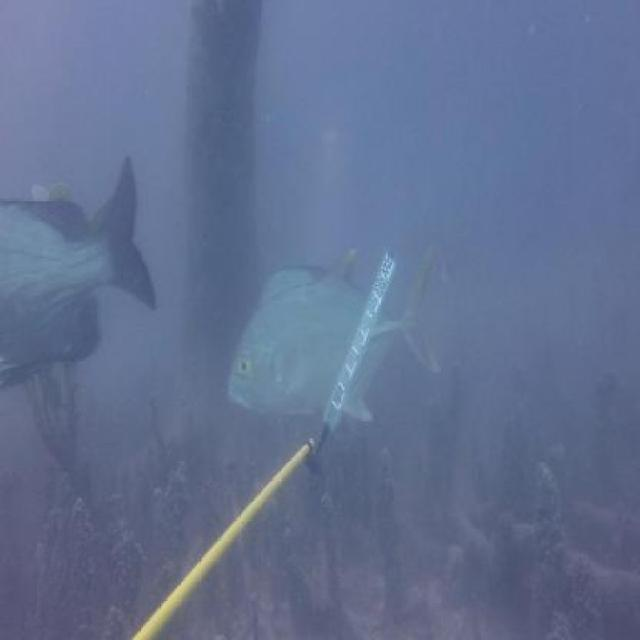Caranx: (227, 241, 441, 450)
acanthopagrus_palmaris: (0, 158, 166, 384), (258, 260, 336, 306)
